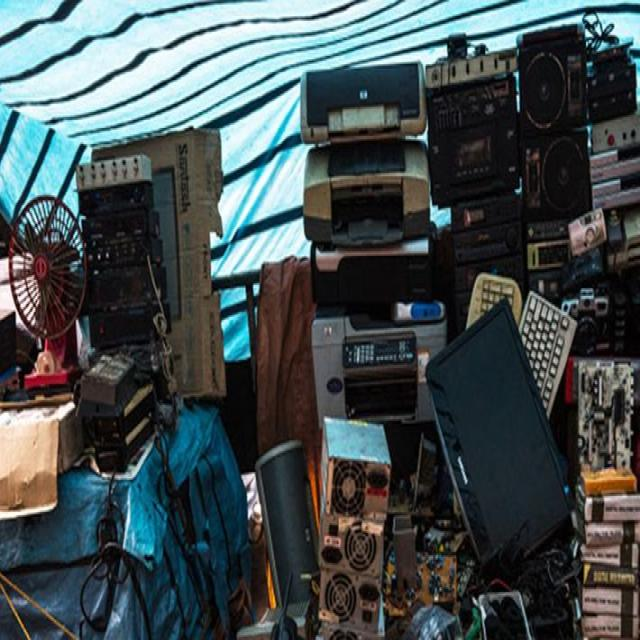Hazard: (247, 29, 640, 640), (15, 147, 192, 498)
